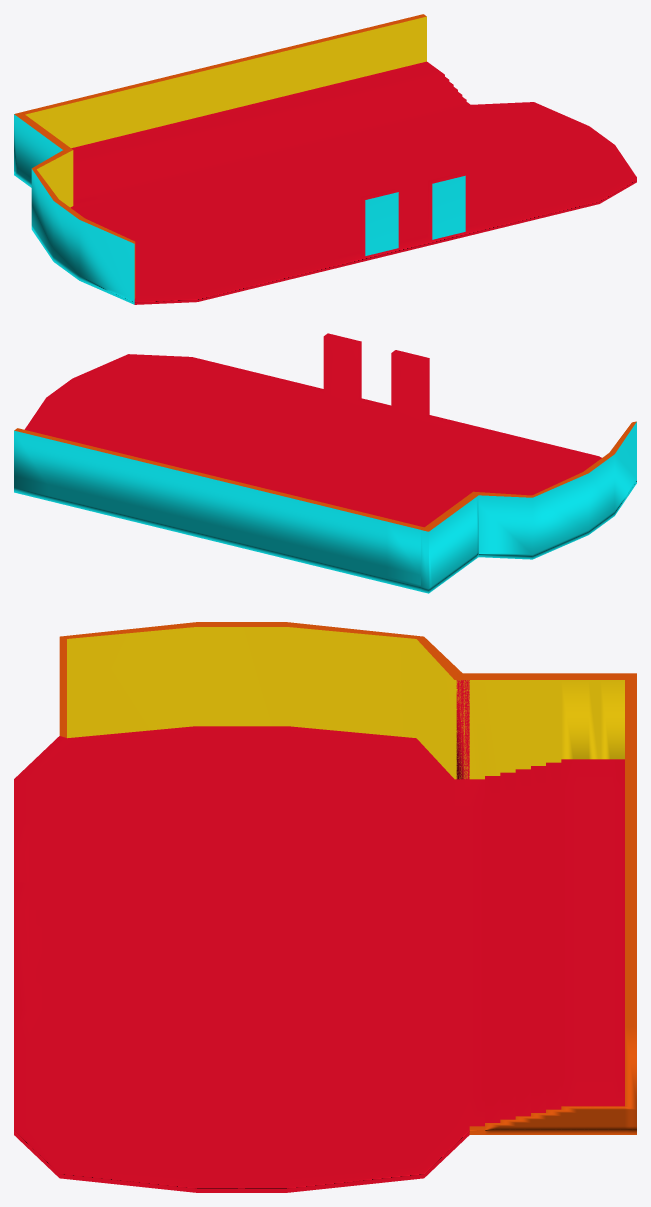
File: oficina.fbx
3 renders of one model, top to bottom at view 1: azimuth 30°, elevation 25°; view 2: azimuth 150°, elevation 25°; view 3: azimuth 270°, elevation 25°, orthographic. The views are drawn at different scales.
Visible parts, largest first — view 1: Cube; view 2: Cube; view 3: Cube.
Part boxes in pixels (<box>): Cube: <box>14,14,636,304</box>; Cube: <box>14,333,636,593</box>; Cube: <box>14,622,636,1192</box>.
Bounding box in the file's own units: 15 × 8.54 × 1.64.
